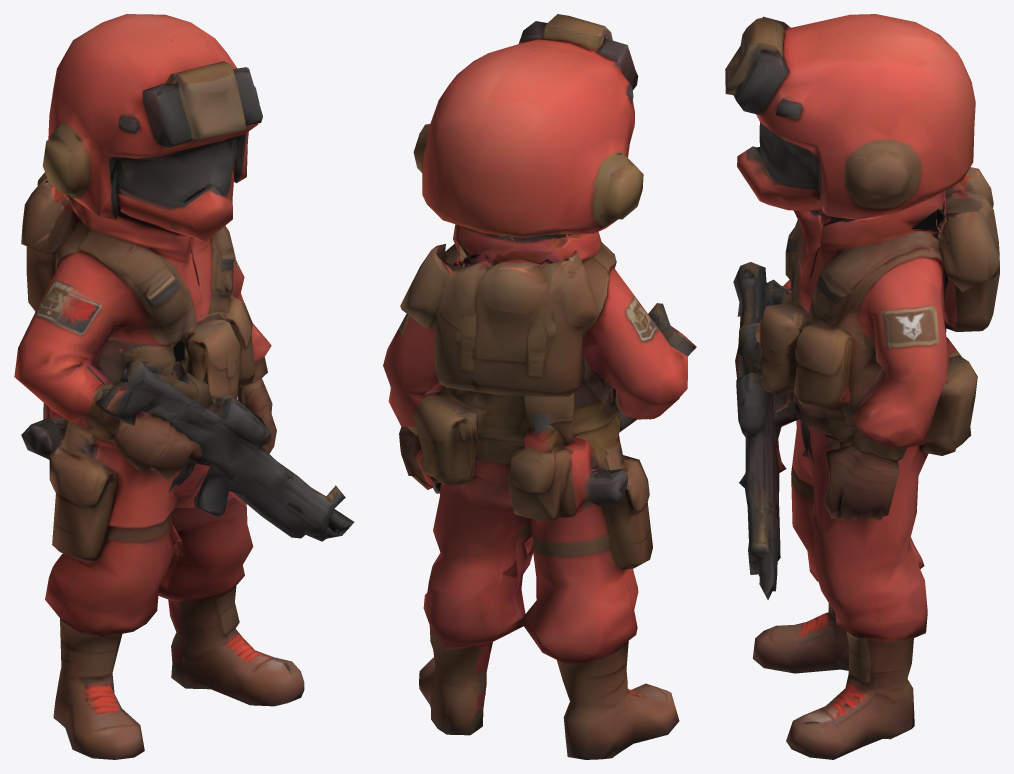
File: Low_poly_enemy_soldie_1028215226_texture.glb
3 views of the same model, side by side, from view 1: azimuth 30°, elevation 25°; view 2: azimuth 150°, elevation 25°; view 3: azimuth 270°, elevation 25° (orthographic).
Visible parts, largest first — view 1: Mesh1.0; view 2: Mesh1.0; view 3: Mesh1.0.
Part boxes in pixels (x1,y1,x2,y2): Mesh1.0: (14,14,354,759); Mesh1.0: (383,14,696,759); Mesh1.0: (725,14,999,759).
Size of the model in its own units: 0.9308 by 2.01 by 0.7449.
Materials: 1 (1 with a texture image).
